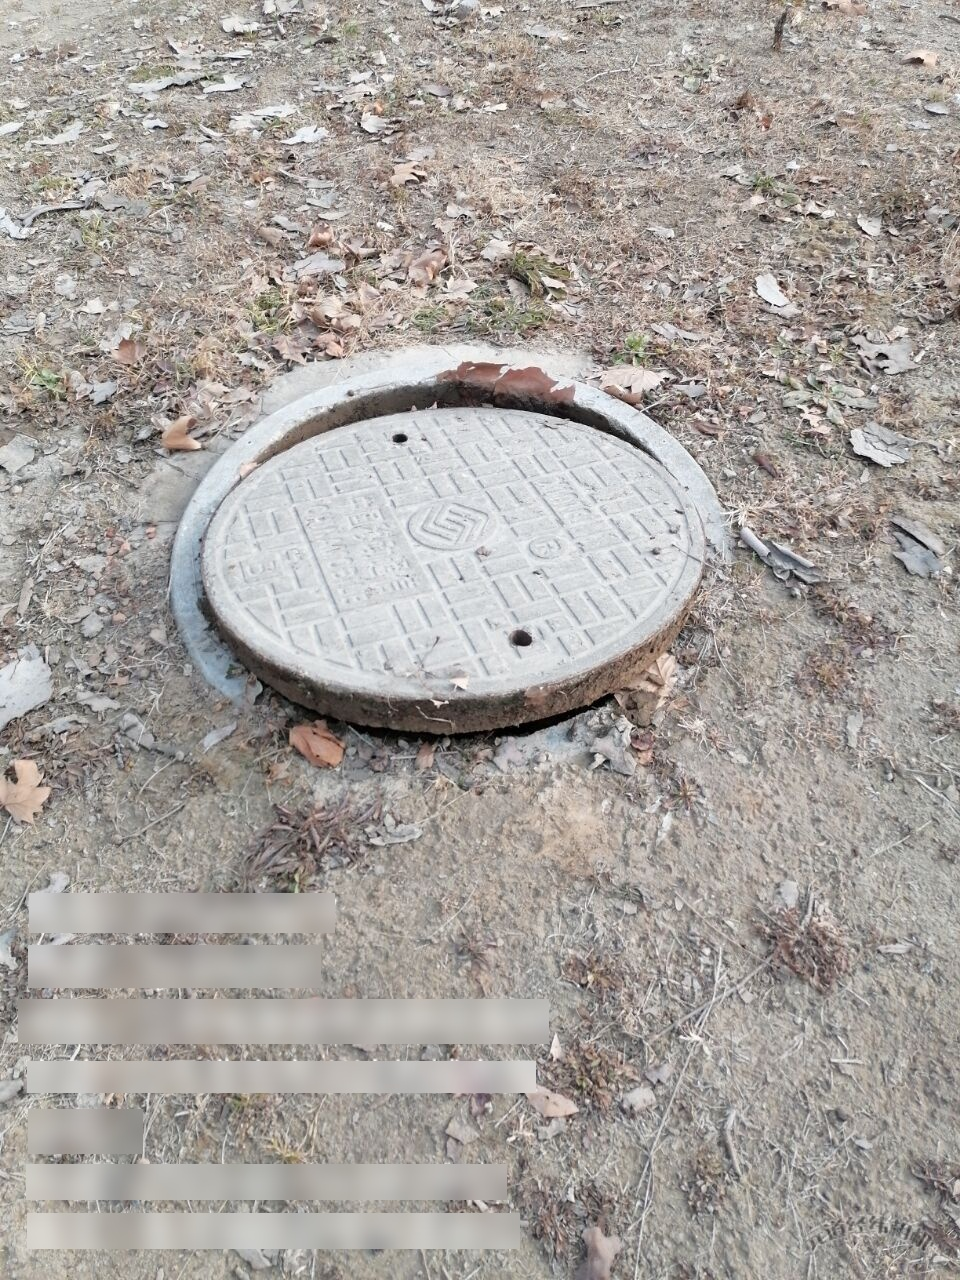uncovered: (169, 357, 730, 782)
